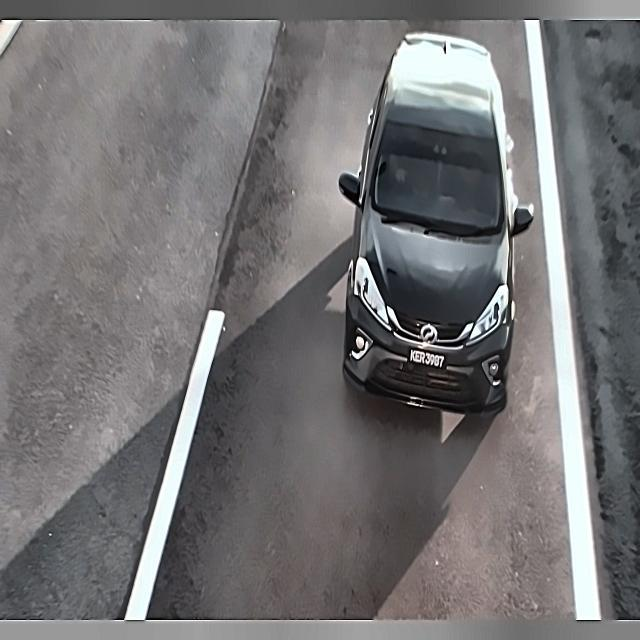car: (401, 341, 448, 378)
